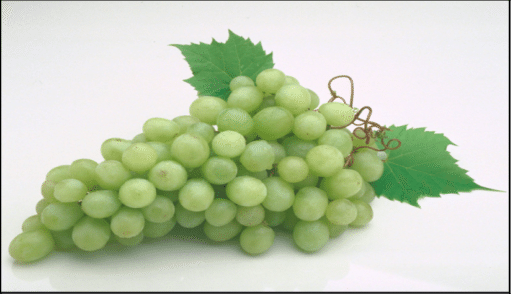Green grapes: (7, 100, 392, 259)
